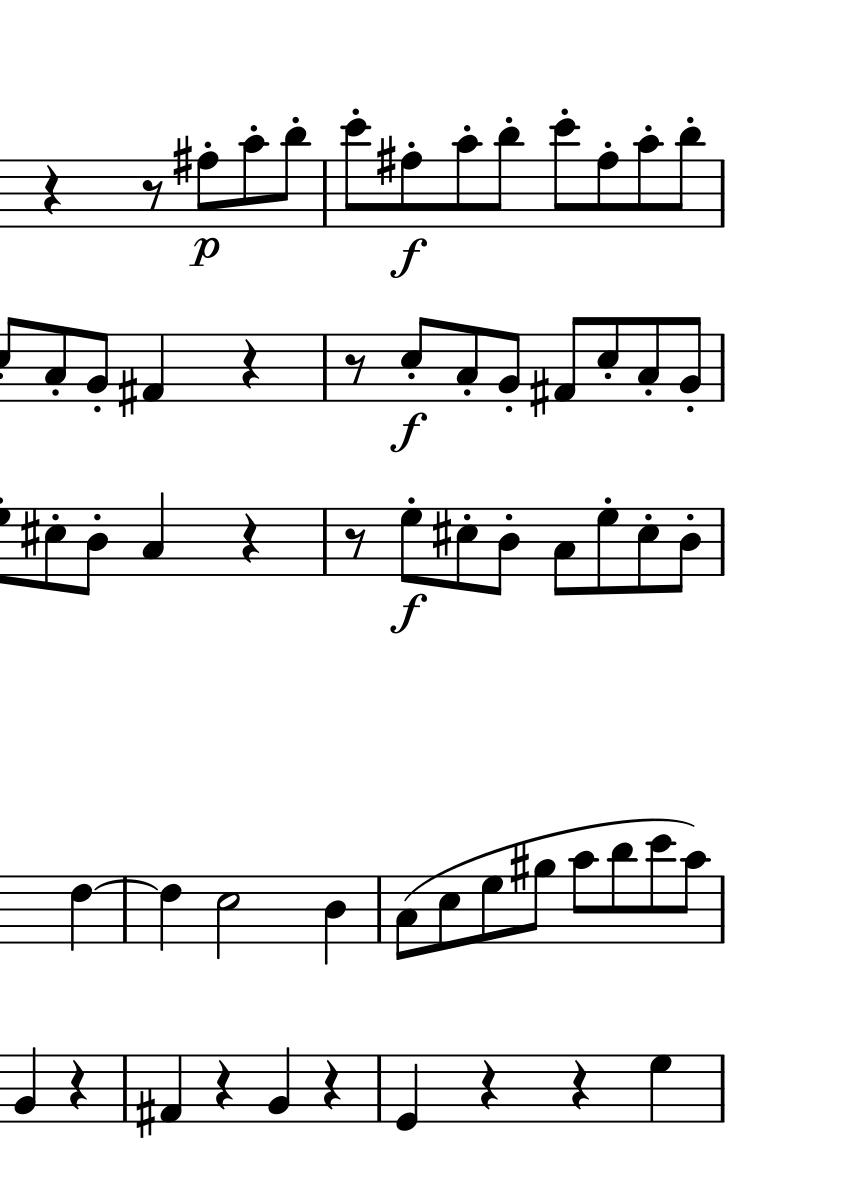2_5: (214, 874, 241, 963)
4_0: (394, 1053, 420, 1133)
4_1: (141, 333, 167, 404), (159, 1054, 184, 1124)
4_2: (13, 1045, 38, 1125), (267, 1046, 292, 1125)
4_3: (140, 491, 167, 578)
4_4: (322, 872, 348, 968)
4_6: (68, 874, 94, 952), (158, 874, 182, 953)
4_7: (647, 1052, 674, 1125)
8_1: (552, 315, 588, 404)
8_10: (679, 850, 709, 946), (240, 135, 268, 229), (636, 135, 663, 230), (570, 851, 597, 944), (455, 135, 481, 229)
8_11: (278, 125, 311, 230), (491, 126, 524, 230), (672, 126, 705, 230), (609, 841, 635, 947)
8_12: (550, 115, 581, 232), (647, 832, 677, 949), (341, 118, 371, 229)
8_2: (678, 316, 703, 403), (497, 330, 523, 403), (85, 329, 110, 403)
8_3: (551, 507, 577, 599), (393, 874, 419, 963), (636, 316, 661, 403), (43, 324, 69, 403), (455, 323, 480, 403)
8_4: (489, 507, 522, 599), (669, 508, 703, 597), (80, 508, 110, 598)
8_5: (399, 314, 430, 404), (634, 508, 660, 596), (453, 507, 479, 593), (596, 314, 620, 404), (42, 508, 67, 593), (436, 874, 461, 953)
8_7: (594, 507, 620, 596), (398, 507, 423, 586), (479, 874, 505, 946)
8_8: (195, 149, 220, 230), (595, 150, 620, 231), (399, 150, 424, 230)
8_9: (524, 858, 557, 945)
Rests4: (212, 1058, 235, 1114), (320, 1058, 343, 1114), (477, 1058, 499, 1114), (239, 337, 261, 392), (66, 1058, 88, 1113), (569, 1059, 591, 1114), (41, 163, 62, 218), (239, 512, 260, 566)
Rests8: (343, 351, 368, 386), (141, 177, 165, 211), (344, 526, 367, 560)
Sharp: (134, 1086, 156, 1141), (19, 507, 41, 561), (431, 507, 453, 561), (508, 840, 529, 895), (117, 366, 138, 420), (529, 366, 550, 420), (172, 134, 193, 187), (376, 134, 396, 187)
Single_barline: (713, 875, 732, 944), (370, 1055, 389, 1124), (116, 1055, 135, 1123), (316, 160, 335, 228), (713, 1055, 732, 1122), (116, 877, 134, 943), (714, 160, 731, 228), (316, 334, 333, 402), (714, 334, 731, 402), (714, 508, 731, 576), (371, 876, 388, 944), (316, 509, 333, 575)
Slur: (400, 818, 696, 903)
f: (389, 411, 427, 453), (390, 592, 427, 634), (390, 238, 427, 278)
p: (188, 237, 223, 270)
